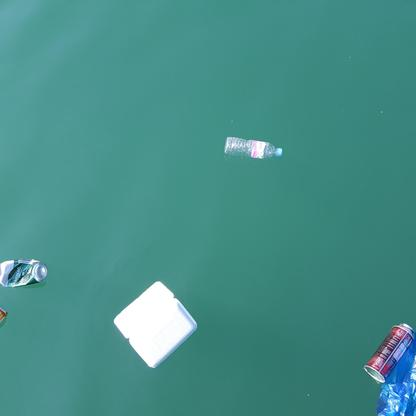can: (364, 323, 414, 380), (2, 258, 48, 287)
foam: (115, 281, 198, 369)
plastic bag: (378, 348, 416, 414)
plastic bottle: (224, 135, 283, 160)
